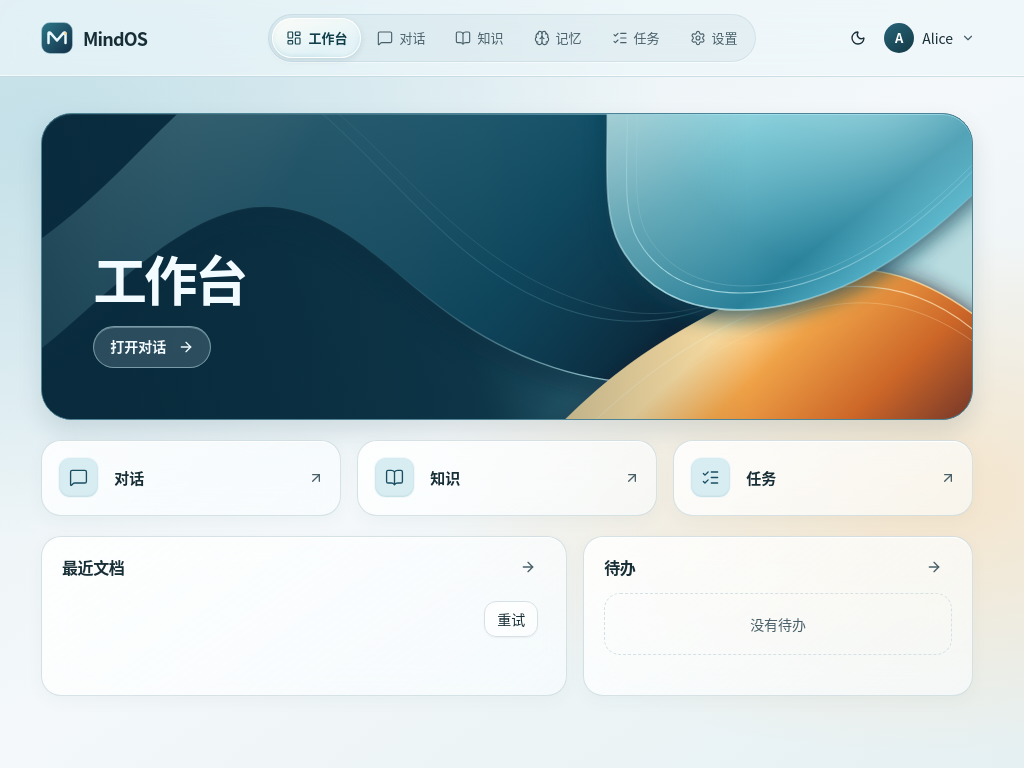
登录、注册与路由守卫 › 退出登录后回到登录页
This screenshot has width=1024, height=768.
Click the heading named "账号" at (932, 38), box [880,18,983,58]
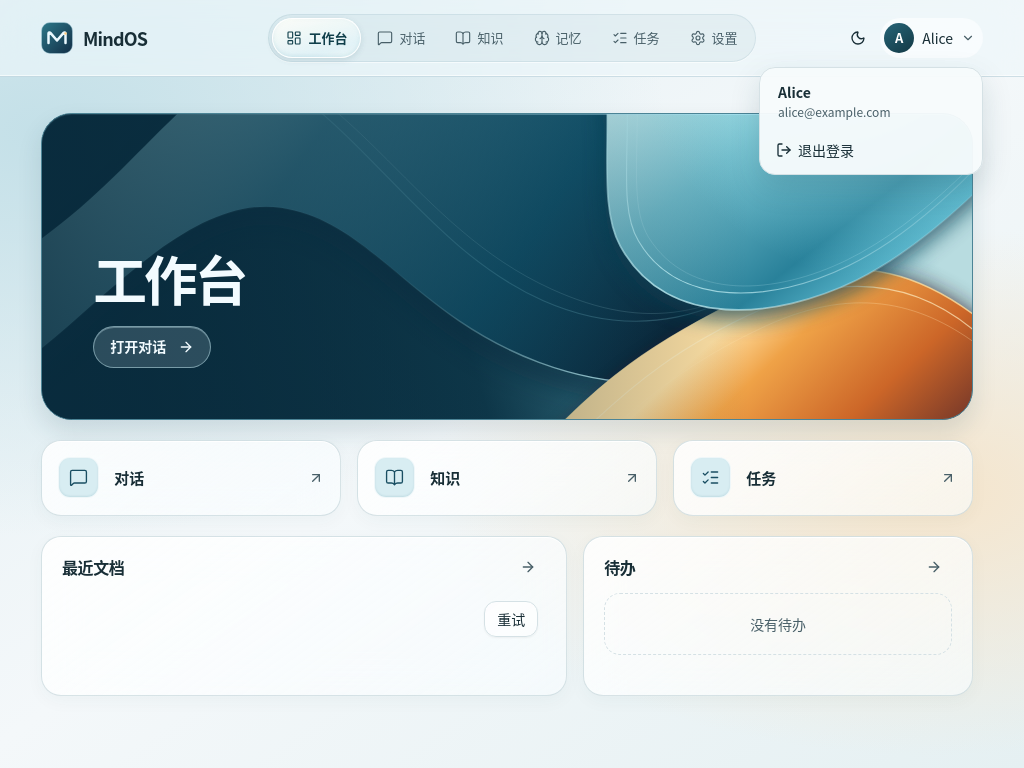
Click the button "退出登录" at (871, 150), box [766,132,976,168]
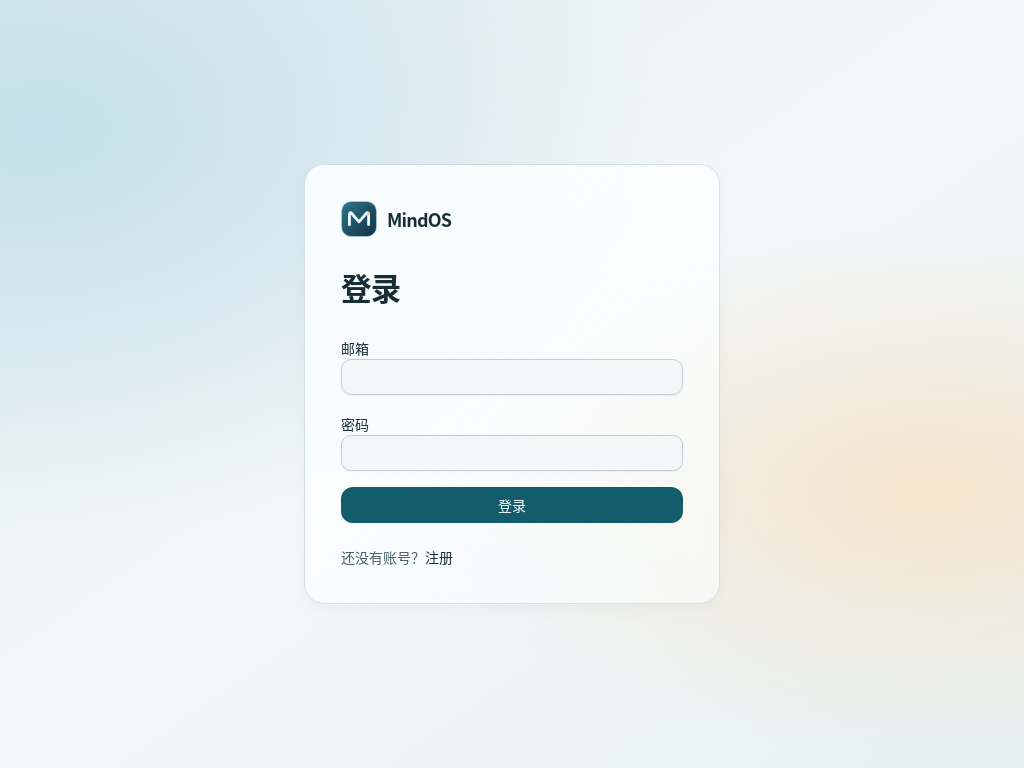
Expected: the heading "登录" is shown, [341,265,400,309]
